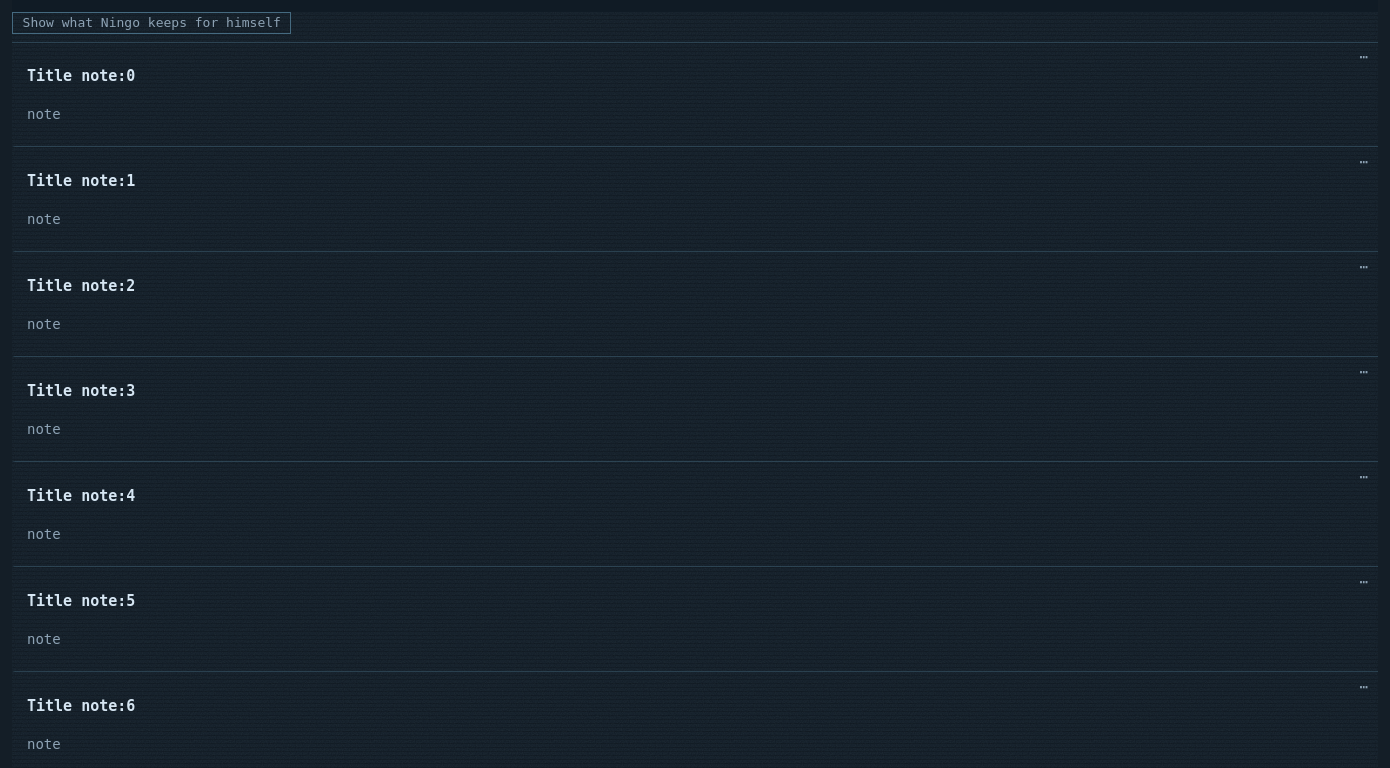
Test: document management › sends the selected id once, keeps a cancelled document, and refreshes after success
Click the 1st button "⋯" at [1364, 57], box left=1349, top=47, right=1378, bottom=68
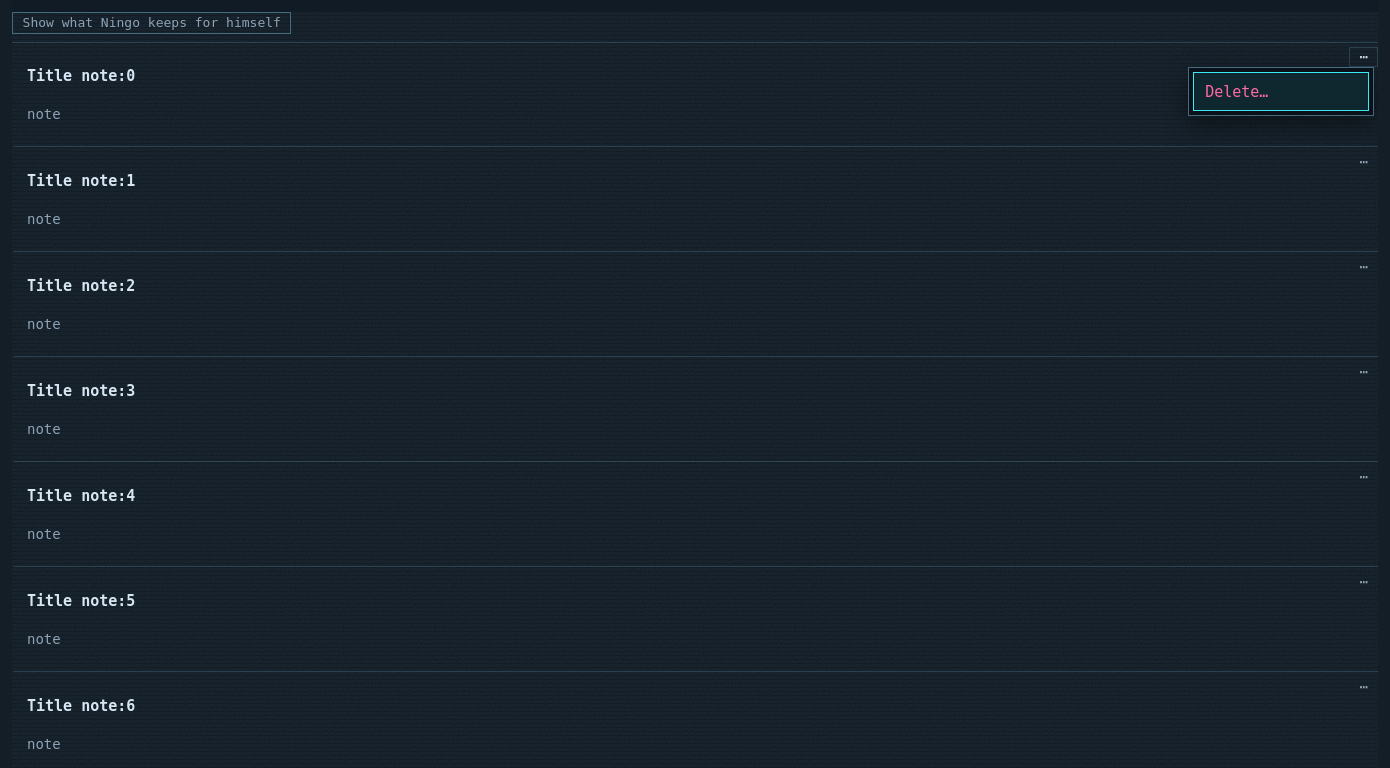
Click the menu item "Delete…" at [1281, 92], box left=1193, top=72, right=1369, bottom=111
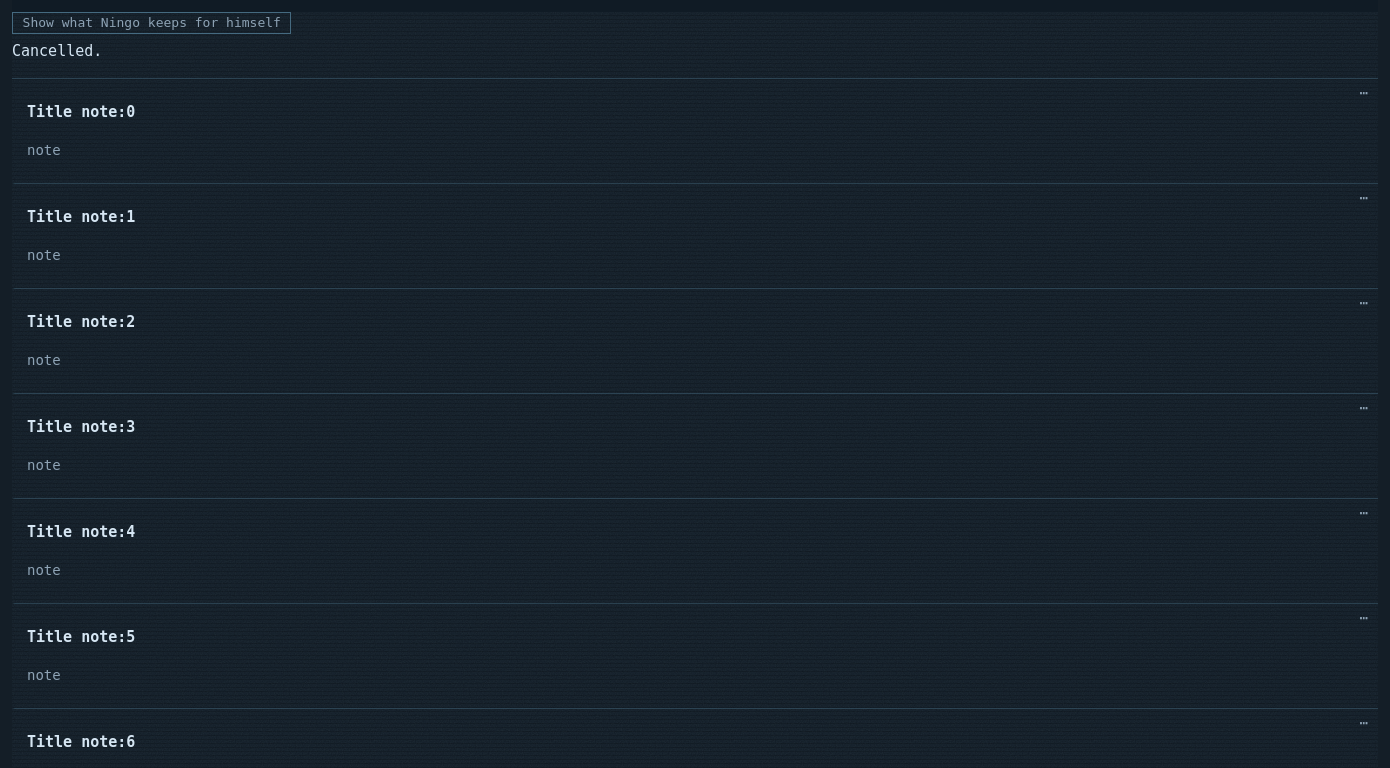
Expected: the text "Title note:0" is shown, left=27, top=104, right=135, bottom=122
Now the message "Cancelled." is shown, box left=12, top=42, right=102, bottom=60
Click the 1st button "⋯" at [1364, 94], box left=1349, top=84, right=1378, bottom=104
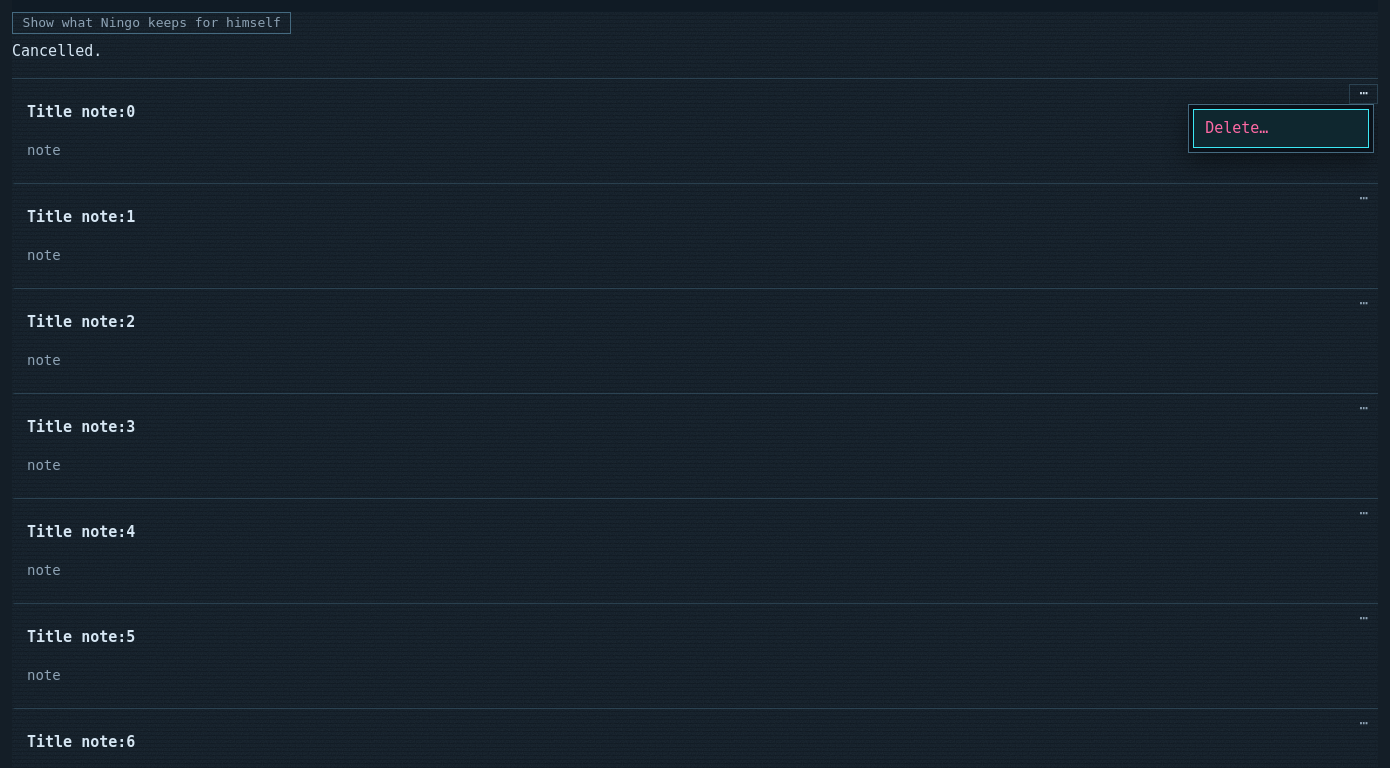
Click the menu item "Delete…" at [1281, 128], box left=1193, top=109, right=1369, bottom=148
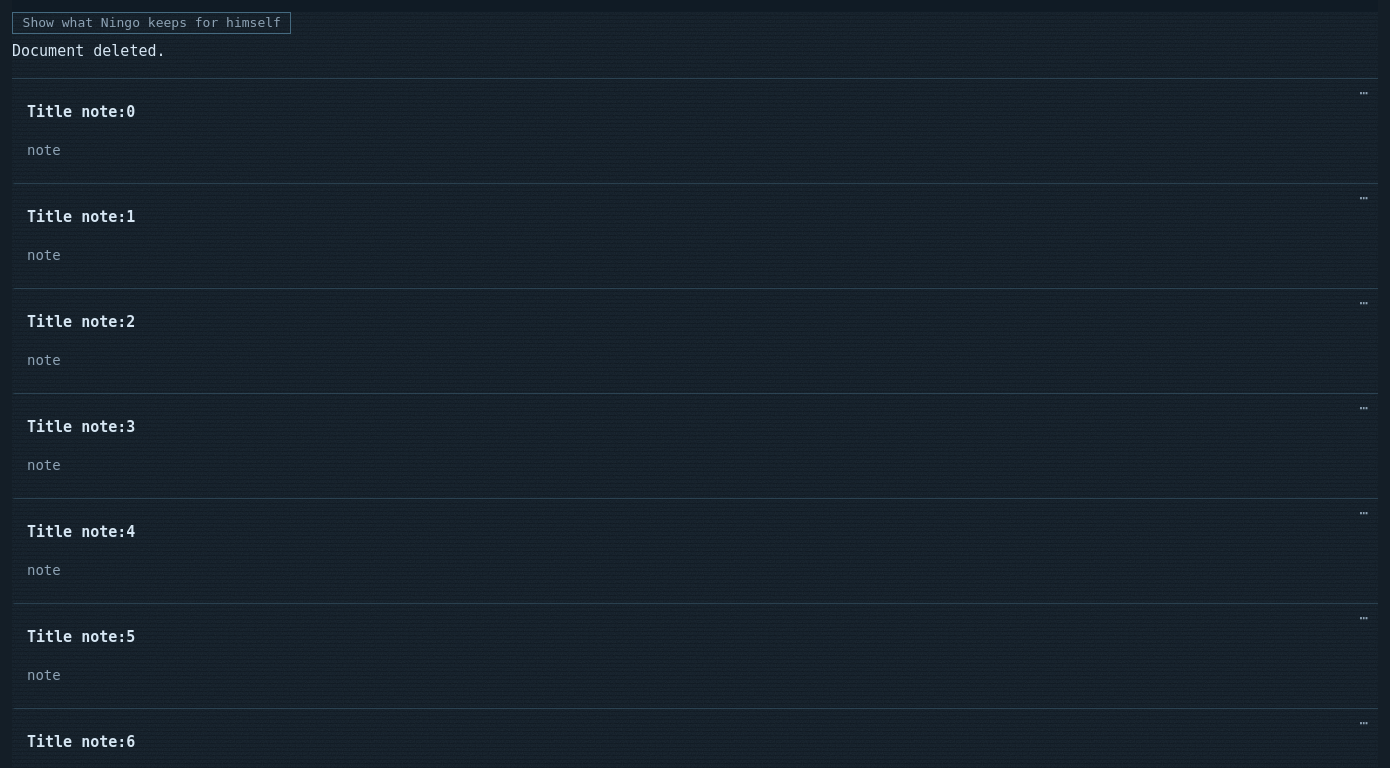
Now the text "Document deleted." is shown, box left=12, top=42, right=166, bottom=60
